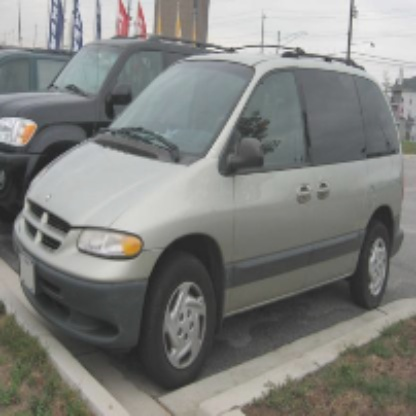Vehicle: (14, 38, 410, 385)
